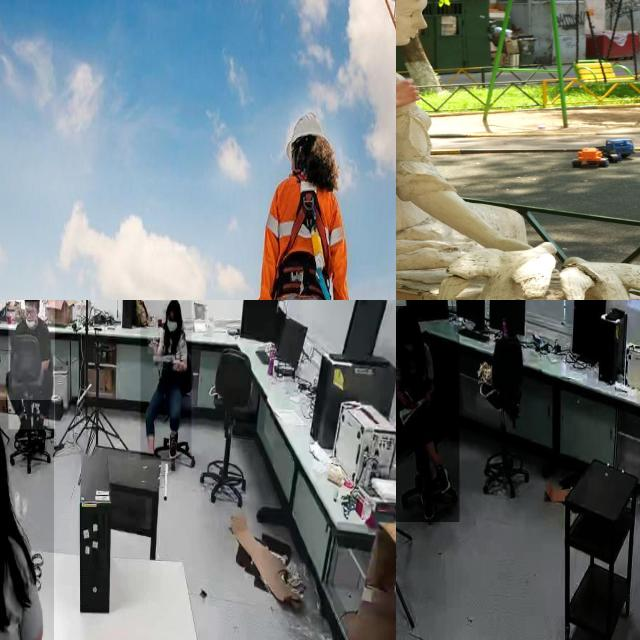Harness: (269, 171, 334, 300)
face_mask: (165, 308, 179, 337)
face_nomask: (23, 302, 38, 321)
hand_noglove: (406, 393, 418, 410), (422, 388, 432, 408), (148, 336, 158, 355), (172, 358, 182, 372)
head_nohelmet: (396, 306, 417, 324), (165, 300, 180, 311)
person: (396, 306, 460, 523), (0, 400, 54, 640), (140, 300, 192, 460), (8, 300, 55, 429)
shoes: (418, 481, 437, 524), (433, 457, 453, 493), (11, 410, 29, 442), (165, 428, 180, 464)
